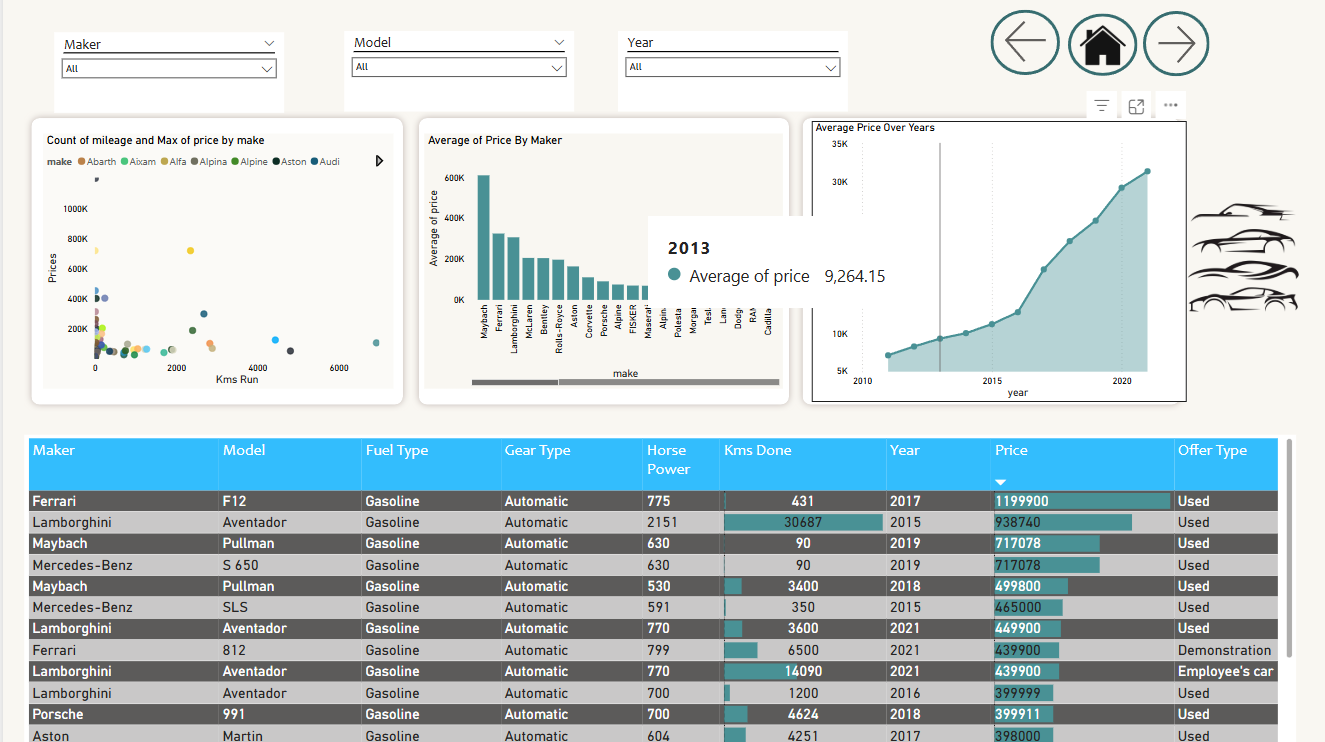

What the dashboard file says about the page in this screenshot:
{"tool":"powerbi","page":{"name":"Page 2","canvas":[1800,1100],"ordinal":1},"visuals":[{"type":"shape","box":[555.7,218.1,522.9,409.1],"z":0},{"type":"shape","box":[1078.7,218.1,532.6,409.1],"z":1000},{"type":"shape","box":[28.9,218.1,524.9,409.1],"z":2000},{"type":"scatterChart","fields":{"Y":["Max(Car_analysis.price)"],"Series":["Car_analysis.make"],"X":["CountNonNull(Car_analysis.mileage)"]},"box":[54,248.9,476.6,347.3],"z":3000},{"type":"columnChart","title":"Average of Price By Maker","fields":{"Category":["average_price_by_make.make"],"Y":["Avg(average_price_by_make.price)"]},"box":[573.1,248.9,488.2,347.3],"z":4000},{"type":"image","box":[1596.2,221.2,180.6,392.6],"z":5000},{"type":"lineChart","title":"Average Price Over Years","fields":{"Category":["average_price_by_year.year"],"Y":["Avg(average_price_by_year.price)"]},"box":[1099.9,231.6,511.4,382.1],"z":6000},{"type":"tableEx","fields":{"Values":["top_10_costly_cars.make","top_10_costly_cars.model","top_10_costly_cars.fuel","top_10_costly_cars.gear","Sum(top_10_costly_cars.hp)","Sum(top_10_costly_cars.mileage)","top_10_costly_cars.year","Sum(top_10_costly_cars.price)","top_10_costly_cars.offerType"]},"box":[29.5,658,1730.7,442.4],"z":7000},{"type":"slicer","fields":{"Values":["Car_analysis.make"]},"box":[69.5,110,312.6,110],"z":8000},{"type":"slicer","fields":{"Values":["top_10_costly_cars.model"]},"box":[465.1,108.1,312.6,110],"z":9000},{"type":"slicer","fields":{"Values":["top_10_costly_cars.year"]},"box":[837.5,108.1,312.6,110],"z":10000},{"type":"actionButton","box":[1356.6,88.8,81,69.5],"z":11000},{"type":"actionButton","box":[1565,94.6,63.7,63.7],"z":12000},{"type":"shape","box":[1551.5,81,90.7,88.8],"z":13000},{"type":"shape","box":[1343.1,79.1,94.6,88.8],"z":14000},{"type":"image","box":[1437.6,81,117.7,92.6],"z":15000},{"type":"shape","box":[1449.2,84.9,94.6,84.9],"z":16000}]}

Visuals, with their boxes on the page's 1800x1100 design canvas (x1, y1, x2, y2). These are canvas units, not pixel positions in the 1325x742 screenshot, which may show the page scaled, cropped or inside an application window:
shape: Rect(556, 218, 1079, 627)
shape: Rect(1079, 218, 1611, 627)
shape: Rect(29, 218, 554, 627)
scatterChart - Max(Car_analysis.price) x Car_analysis.make: Rect(54, 249, 531, 596)
"Average of Price By Maker" columnChart: Rect(573, 249, 1061, 596)
image: Rect(1596, 221, 1777, 614)
"Average Price Over Years" lineChart: Rect(1100, 232, 1611, 614)
tableEx - top_10_costly_cars.make x top_10_costly_cars.model: Rect(30, 658, 1760, 1100)
slicer - Car_analysis.make: Rect(70, 110, 382, 220)
slicer - top_10_costly_cars.model: Rect(465, 108, 778, 218)
slicer - top_10_costly_cars.year: Rect(838, 108, 1150, 218)
actionButton: Rect(1357, 89, 1438, 158)
actionButton: Rect(1565, 95, 1629, 158)
shape: Rect(1552, 81, 1642, 170)
shape: Rect(1343, 79, 1438, 168)
image: Rect(1438, 81, 1555, 174)
shape: Rect(1449, 85, 1544, 170)
